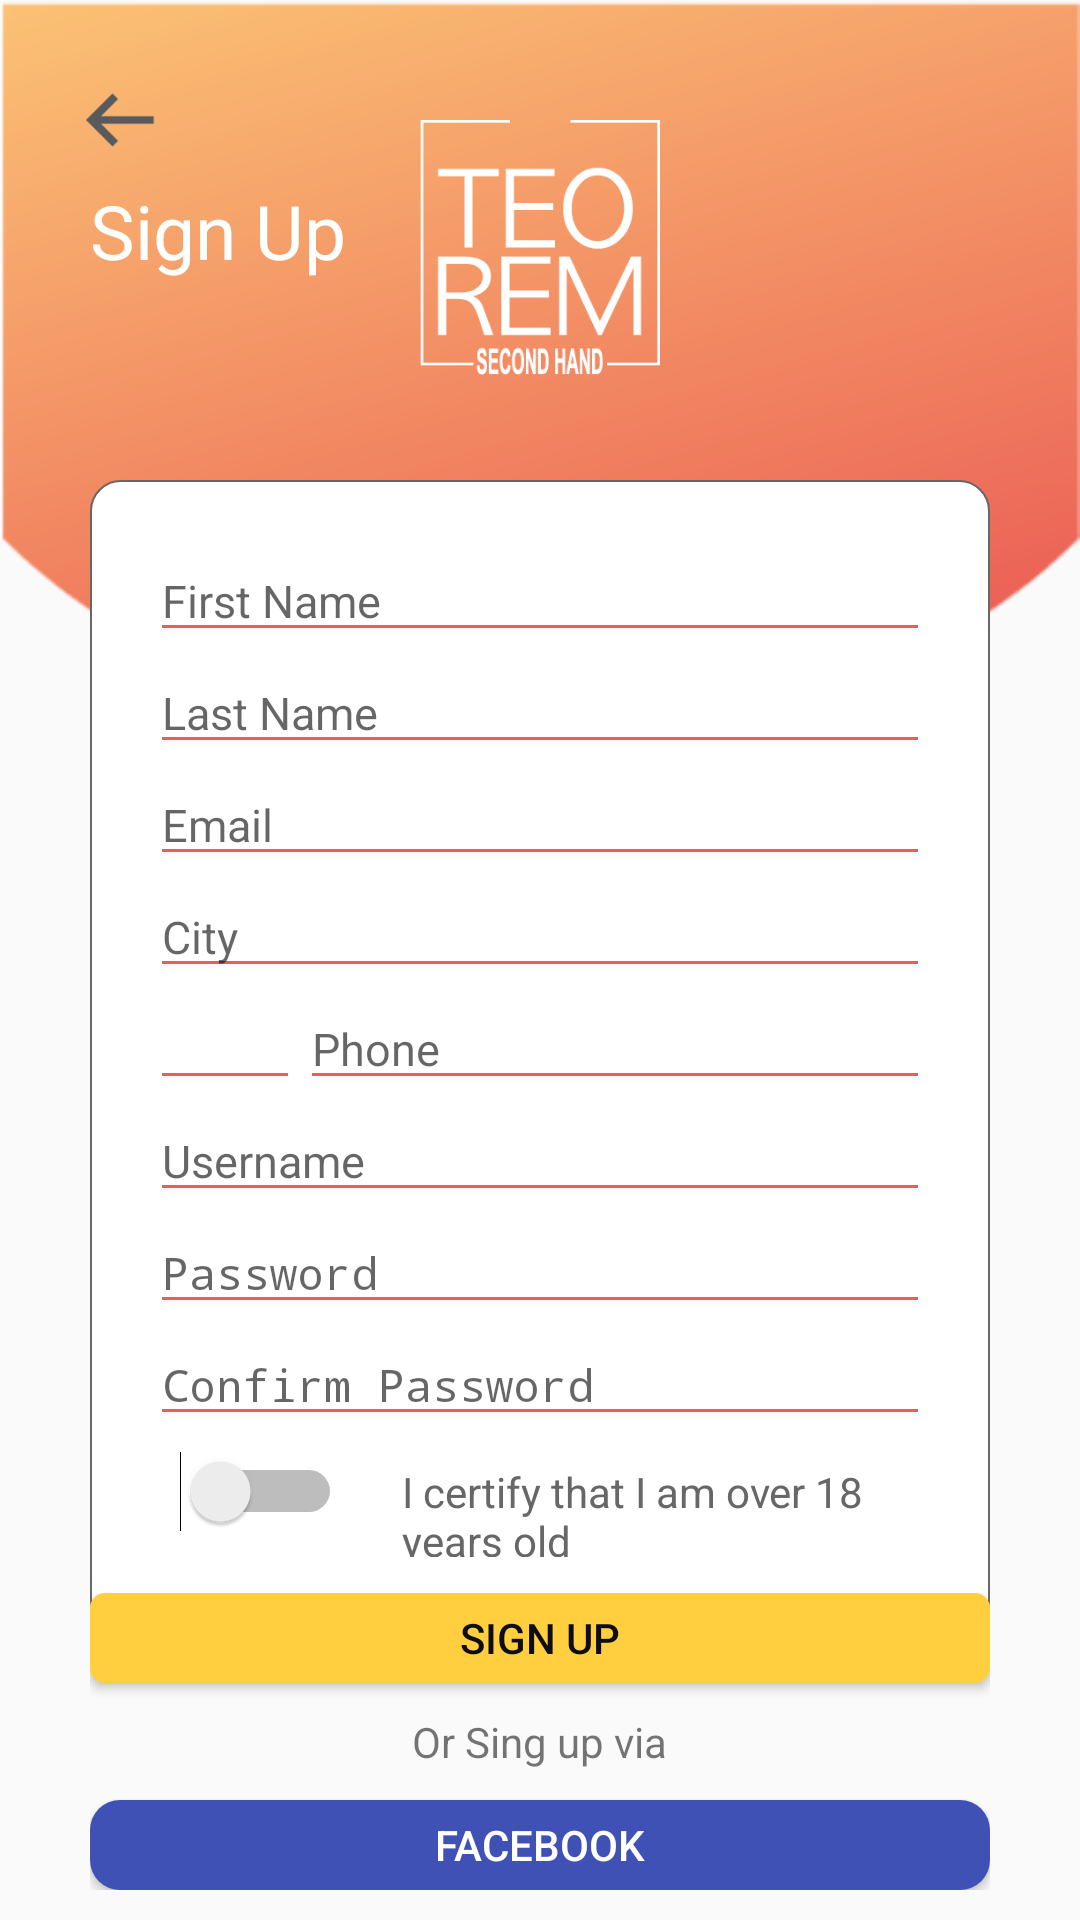

Named icons in this screenshot (1080 × 1920) and their centers, point (x, y):
left: point (120, 120)
